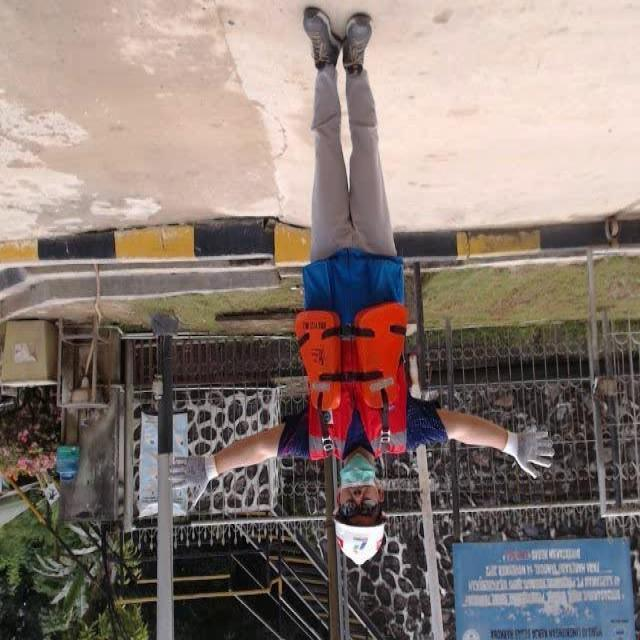helmet: (328, 520, 398, 570)
jacket: (288, 291, 415, 471)
